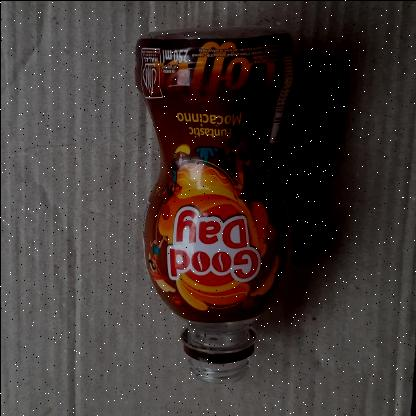Plastic Bottle: (132, 22, 296, 382)
